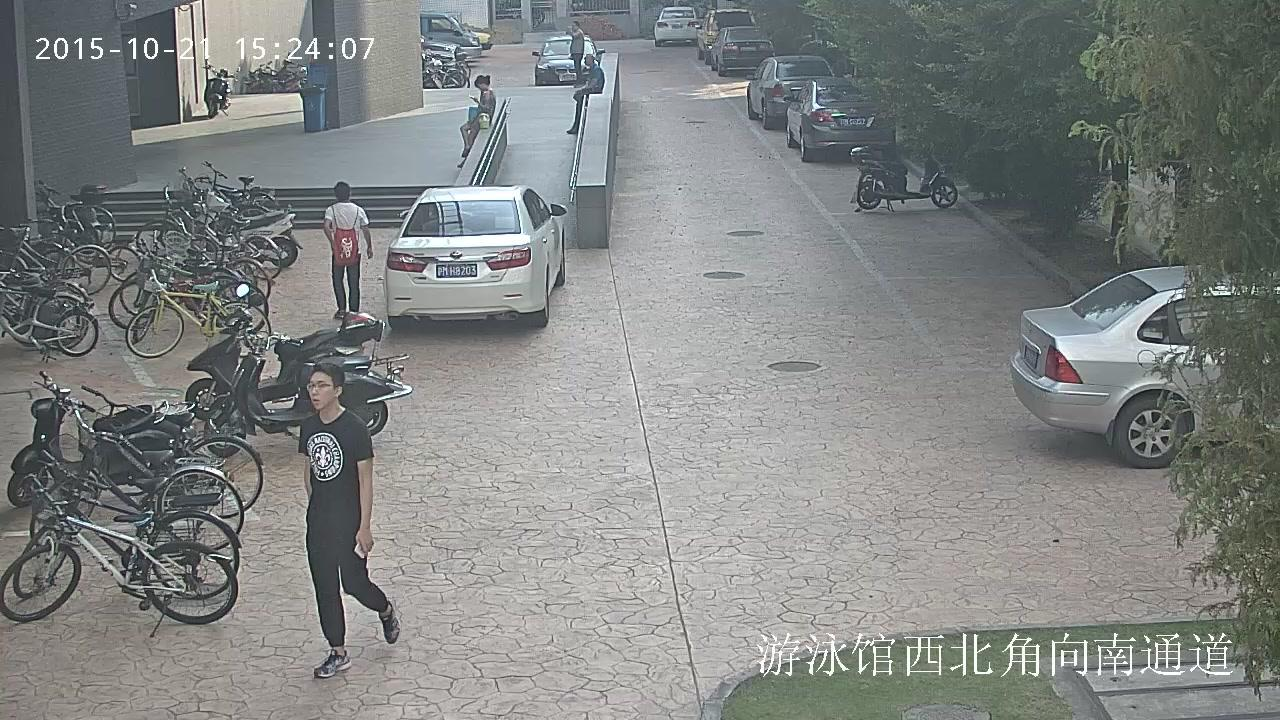face: (309, 371, 334, 409), (585, 55, 592, 64), (476, 84, 484, 89), (572, 23, 576, 30)
